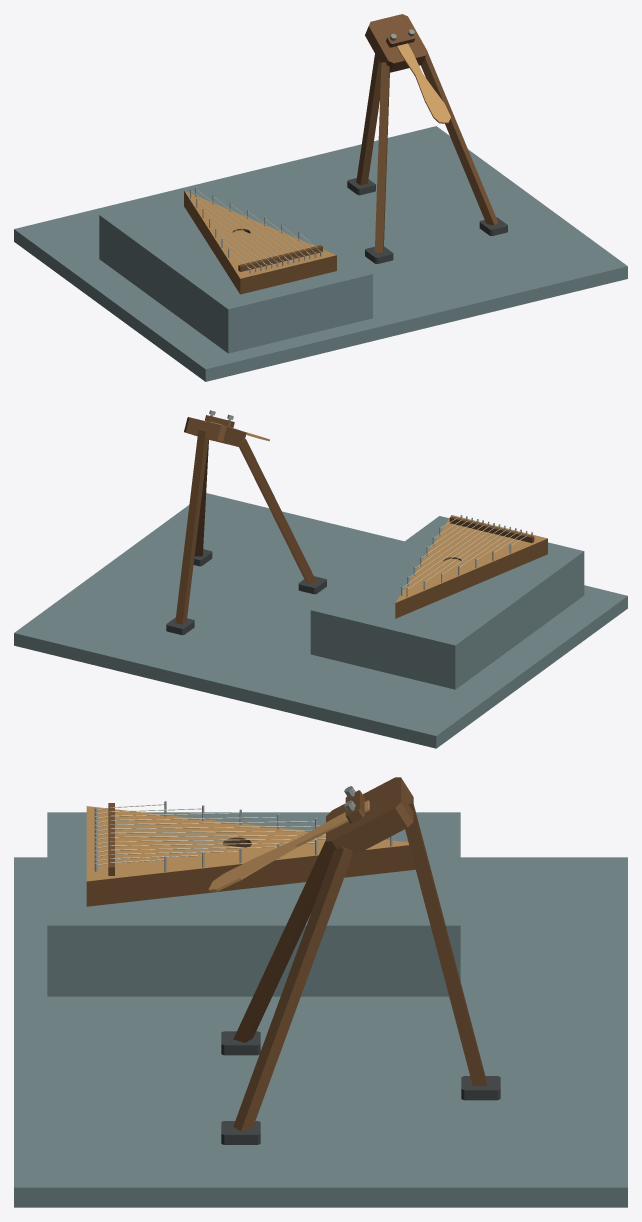
3 views of the same model, one above another, from view 1: azimuth 30°, elevation 25°; view 2: azimuth 150°, elevation 25°; view 3: azimuth 270°, elevation 25° (orthographic). The views are drawn at different scales.
Visible parts, largest first — view 1: SCENE_ONLY__DisplayFloor, psaltery__WholeTriangularHollowChamberAndRealSoundHole, tongue__WholeSplayedTripodLeg_1, tongue__WholeTiltedOpenUndersideSoundbody, tongue__WholeSplayedTripodLeg_0, tongue__WholeSplayedTripodLeg_2, tongue__WholeSingleWaistedCantileverWoodTongue, psaltery__WholeSingleBaseStringBridge; view 2: SCENE_ONLY__DisplayFloor, psaltery__WholeTriangularHollowChamberAndRealSoundHole, tongue__WholeSplayedTripodLeg_2, tongue__WholeSplayedTripodLeg_0, tongue__WholeTiltedOpenUndersideSoundbody, psaltery__WholeSingleBaseStringBridge, tongue__WholeSplayedTripodLeg_1; view 3: SCENE_ONLY__DisplayFloor, psaltery__WholeTriangularHollowChamberAndRealSoundHole, tongue__WholeSplayedTripodLeg_1, tongue__WholeSplayedTripodLeg_2, tongue__WholeTiltedOpenUndersideSoundbody, tongue__WholeSplayedTripodLeg_0, tongue__WholeSingleWaistedCantileverWoodTongue, tongue__WholeFiniteGroundFoot_2, tongue__WholeFiniteGroundFoot_0, tongue__WholeFiniteGroundFoot_1.
Part boxes in pixels (x1=…): SCENE_ONLY__DisplayFloor: x1=14, y1=126, x2=627, y2=381; psaltery__WholeTriangularHollowChamberAndRealSoundHole: x1=184, y1=190, x2=336, y2=294; tongue__WholeSplayedTripodLeg_1: x1=421, y1=52, x2=497, y2=225; tongue__WholeTiltedOpenUndersideSoundbody: x1=365, y1=14, x2=427, y2=72; tongue__WholeSplayedTripodLeg_0: x1=374, y1=62, x2=389, y2=252; tongue__WholeSplayedTripodLeg_2: x1=356, y1=54, x2=381, y2=185; tongue__WholeSingleWaistedCantileverWoodTongue: x1=396, y1=43, x2=450, y2=123; psaltery__WholeSingleBaseStringBridge: x1=238, y1=245, x2=322, y2=271; SCENE_ONLY__DisplayFloor: x1=14, y1=493, x2=627, y2=748; psaltery__WholeTriangularHollowChamberAndRealSoundHole: x1=395, y1=515, x2=547, y2=618; tongue__WholeSplayedTripodLeg_2: x1=175, y1=429, x2=208, y2=624; tongue__WholeSplayedTripodLeg_0: x1=239, y1=438, x2=316, y2=584; tongue__WholeTiltedOpenUndersideSoundbody: x1=184, y1=417, x2=246, y2=447; psaltery__WholeSingleBaseStringBridge: x1=449, y1=516, x2=534, y2=542; tongue__WholeSplayedTripodLeg_1: x1=194, y1=440, x2=208, y2=556; SCENE_ONLY__DisplayFloor: x1=14, y1=812, x2=627, y2=1207; psaltery__WholeTriangularHollowChamberAndRealSoundHole: x1=86, y1=806, x2=415, y2=906; tongue__WholeSplayedTripodLeg_1: x1=233, y1=846, x2=352, y2=1131; tongue__WholeSplayedTripodLeg_2: x1=405, y1=797, x2=486, y2=1085; tongue__WholeTiltedOpenUndersideSoundbody: x1=326, y1=777, x2=413, y2=856; tongue__WholeSplayedTripodLeg_0: x1=233, y1=840, x2=332, y2=1042; tongue__WholeSingleWaistedCantileverWoodTongue: x1=208, y1=800, x2=369, y2=891; tongue__WholeFiniteGroundFoot_2: x1=461, y1=1076, x2=500, y2=1100; tongue__WholeFiniteGroundFoot_0: x1=221, y1=1031, x2=260, y2=1055; tongue__WholeFiniteGroundFoot_1: x1=221, y1=1121, x2=260, y2=1144.
Bounding box in the file's own units: 1.4 × 0.64 × 1.1.
